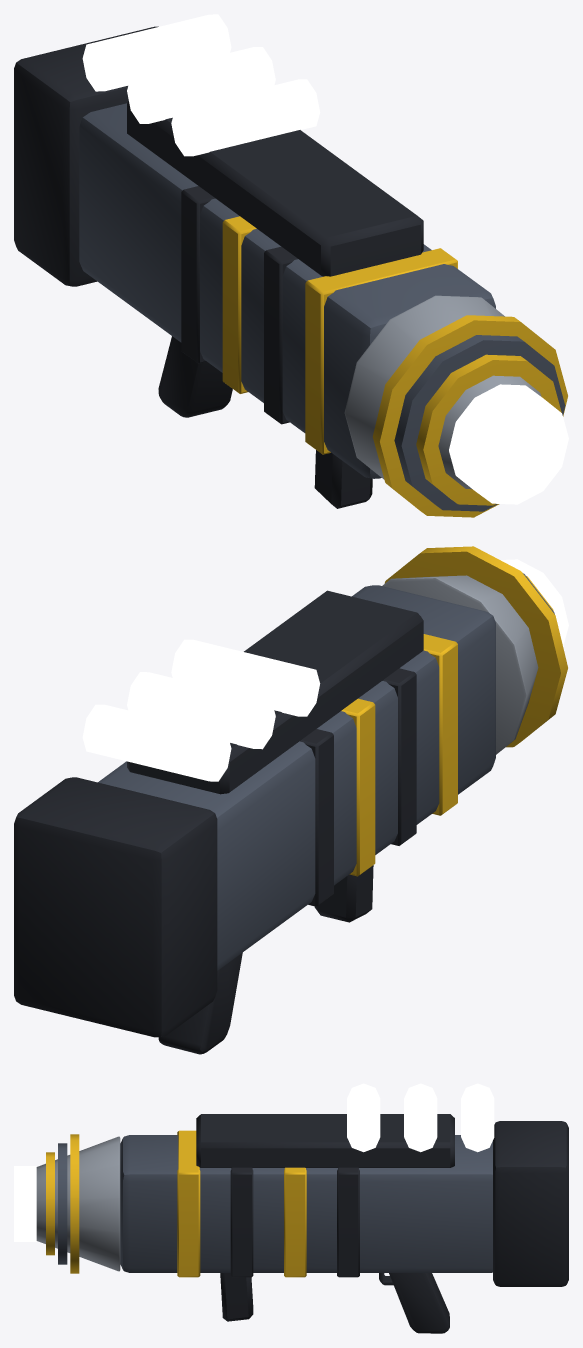
The model's file is shockwave_launcher.glb.
3 renders of one model, top to bottom at view 1: azimuth 30°, elevation 25°; view 2: azimuth 150°, elevation 25°; view 3: azimuth 270°, elevation 25°, orthographic. The views are drawn at different scales.
Parts seen in each view (by area): view 1: mythic_shock_body, mythic_shock_bell, mythic_shock_cells, mythic_shock_emitter; view 2: mythic_shock_body, mythic_shock_cells, mythic_shock_bell, mythic_shock_emitter; view 3: mythic_shock_body, mythic_shock_bell, mythic_shock_cells, mythic_shock_emitter.
Part boxes in pixels (left/top/right/bottom): mythic_shock_body: left=14, top=26, right=495, bottom=508; mythic_shock_bell: left=344, top=295, right=567, bottom=517; mythic_shock_cells: left=82, top=14, right=320, bottom=156; mythic_shock_emitter: left=449, top=384, right=568, bottom=504; mythic_shock_body: left=14, top=585, right=495, bottom=1054; mythic_shock_cells: left=82, top=639, right=320, bottom=781; mythic_shock_bell: left=382, top=546, right=567, bottom=754; mythic_shock_emitter: left=500, top=559, right=568, bottom=646; mythic_shock_body: left=120, top=1114, right=568, bottom=1333; mythic_shock_bell: left=36, top=1134, right=120, bottom=1273; mythic_shock_cells: left=347, top=1083, right=494, bottom=1152; mythic_shock_emitter: left=14, top=1166, right=36, bottom=1241.
Size of the model in its own units: 0.184 by 0.327 by 0.73.
